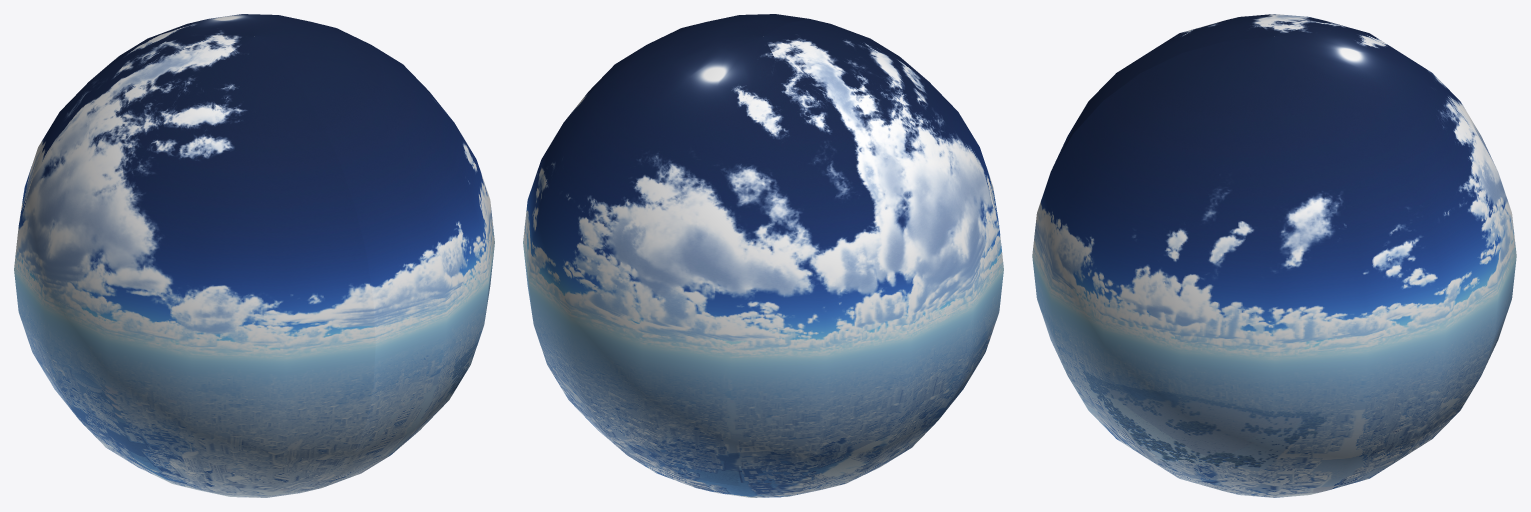
File: sky2.fbx
3 views of the same model, side by side, from view 1: azimuth 30°, elevation 25°; view 2: azimuth 150°, elevation 25°; view 3: azimuth 270°, elevation 25° (orthographic).
Parts seen in each view (by area): view 1: obj0; view 2: obj0; view 3: obj0.
Part boxes in pixels (bbox=[...]): obj0: bbox=[14, 14, 494, 497]; obj0: bbox=[523, 14, 1003, 497]; obj0: bbox=[1032, 14, 1516, 497].
Size of the model in its own units: 800 by 800 by 800.
1 material, 1 textured.
